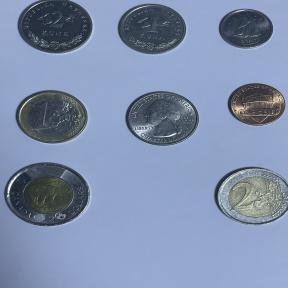1 Euro: (12, 88, 94, 146)
2 Euro: (211, 164, 288, 228)
Canda-10cent-: (215, 6, 277, 51)
Canda-2Dollar-: (2, 160, 94, 228)
Croatia-2Kune-: (14, 0, 96, 55)
US-1cent-: (222, 81, 288, 127)
US-25cent-: (122, 89, 203, 148)
